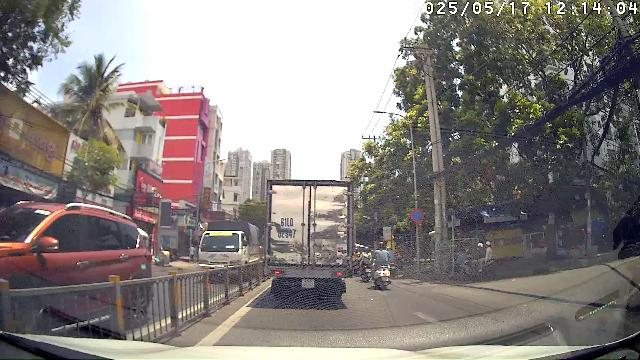131a-cam-do-xe: (410, 208, 425, 223)
